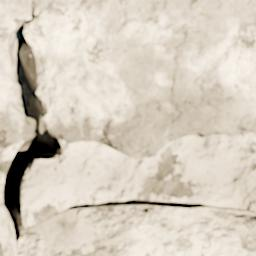broken_brick: (0, 0, 255, 159), (0, 203, 255, 255)
crack: (0, 2, 62, 253)
